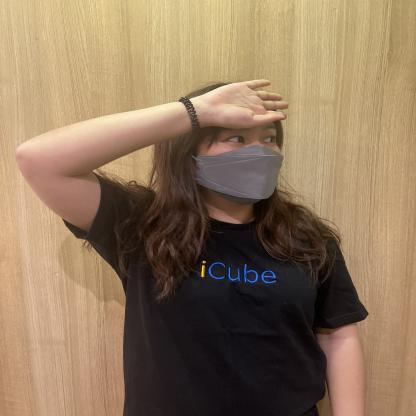Sick: (120, 58, 308, 138)
